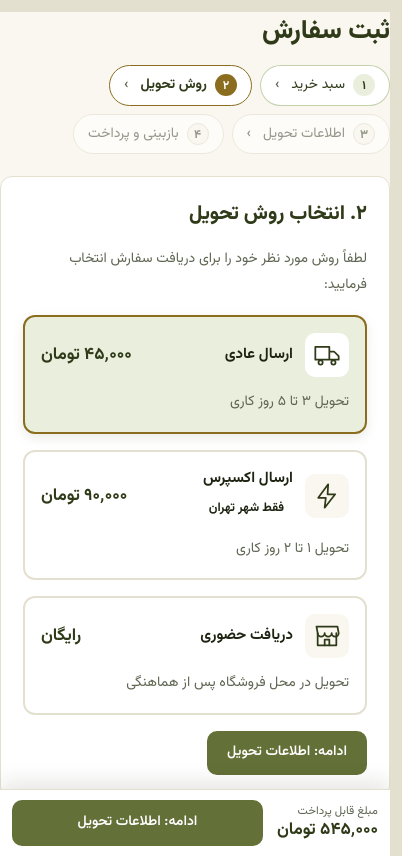
Test case: mobile checkout steps (Task 2) › advances from delivery to address to review using the sticky bar button
This screenshot has width=402, height=856.
Expected: the heading "۲. انتخاب روش تحویل" is shown, [189,198,367,230]
Click the 2nd button "ادامه: اطلاعات تحویل" at (137, 823), box [12,800,263,846]
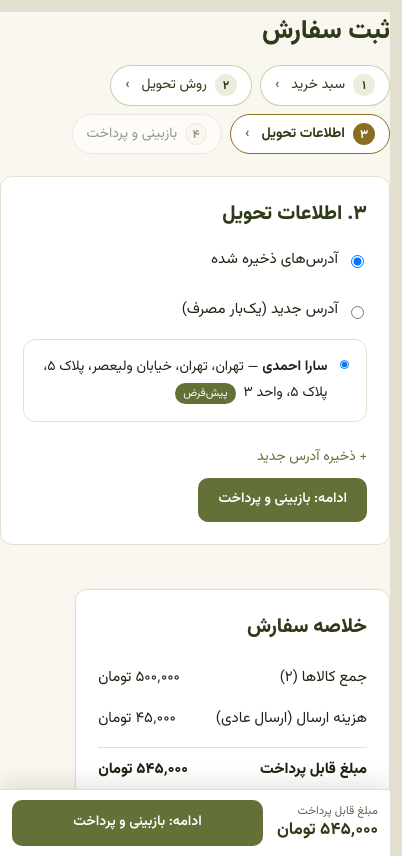
Result: the heading "۳. اطلاعات تحویل" is shown at [222,198,367,230]
Result: the 2nd button "ادامه: بازبینی و پرداخت" is shown
Click the 2nd button "ادامه: بازبینی و پرداخت" at (137, 823), box [12,800,263,846]
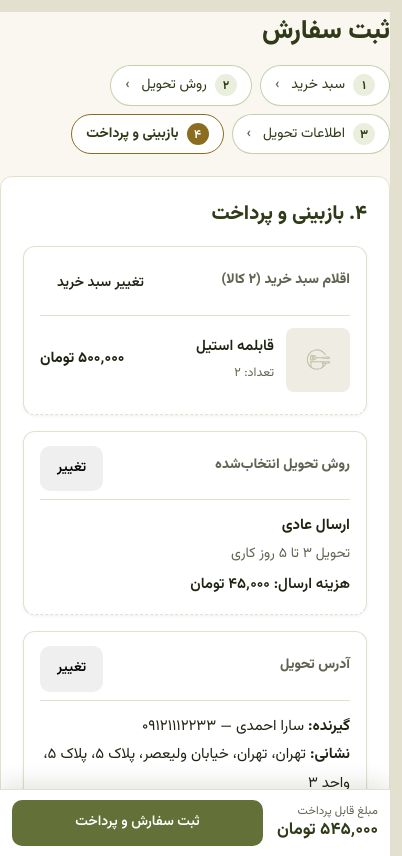
Result: the heading "۴. بازبینی و پرداخت" is shown at [211,198,367,230]
Result: the button "ثبت سفارش و پرداخت" is shown at [12,800,263,846]
